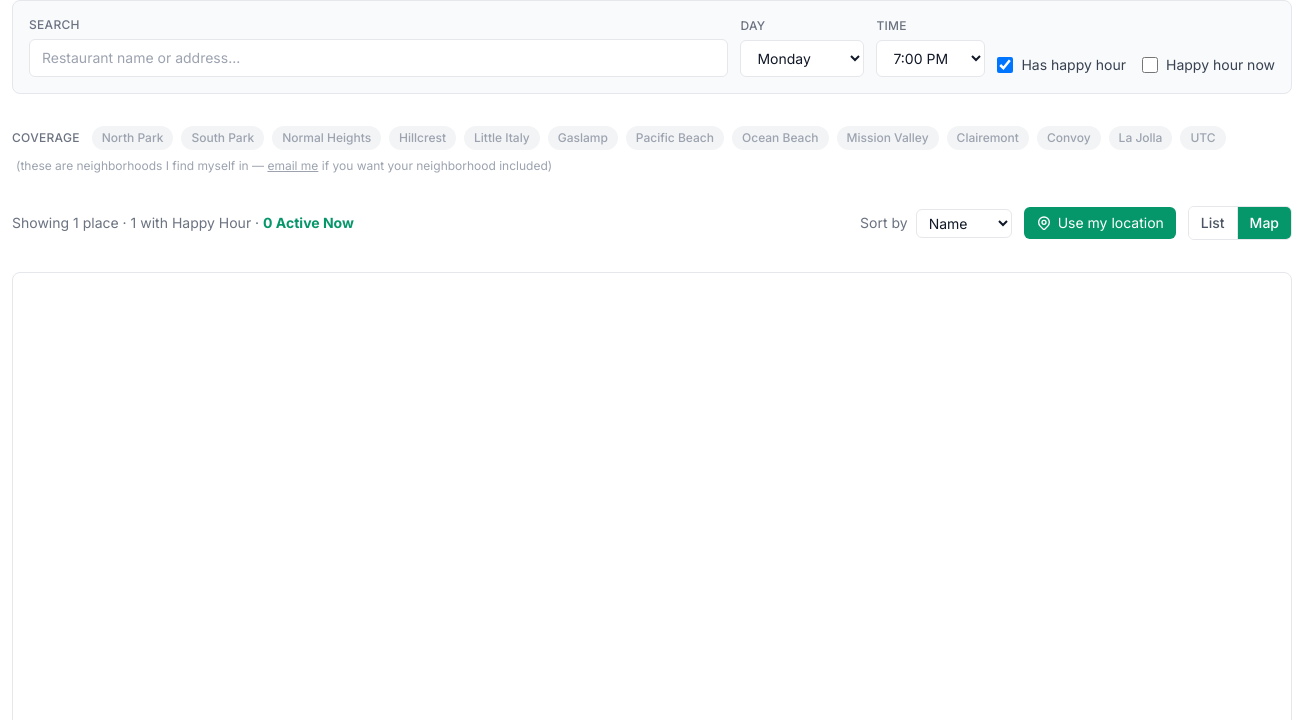
Test case: HappyHourFinder - Restaurant Display › displays happy hour schedule when available
Step 1. Click the button "List" → (1213,223), box [1189,207,1237,239]
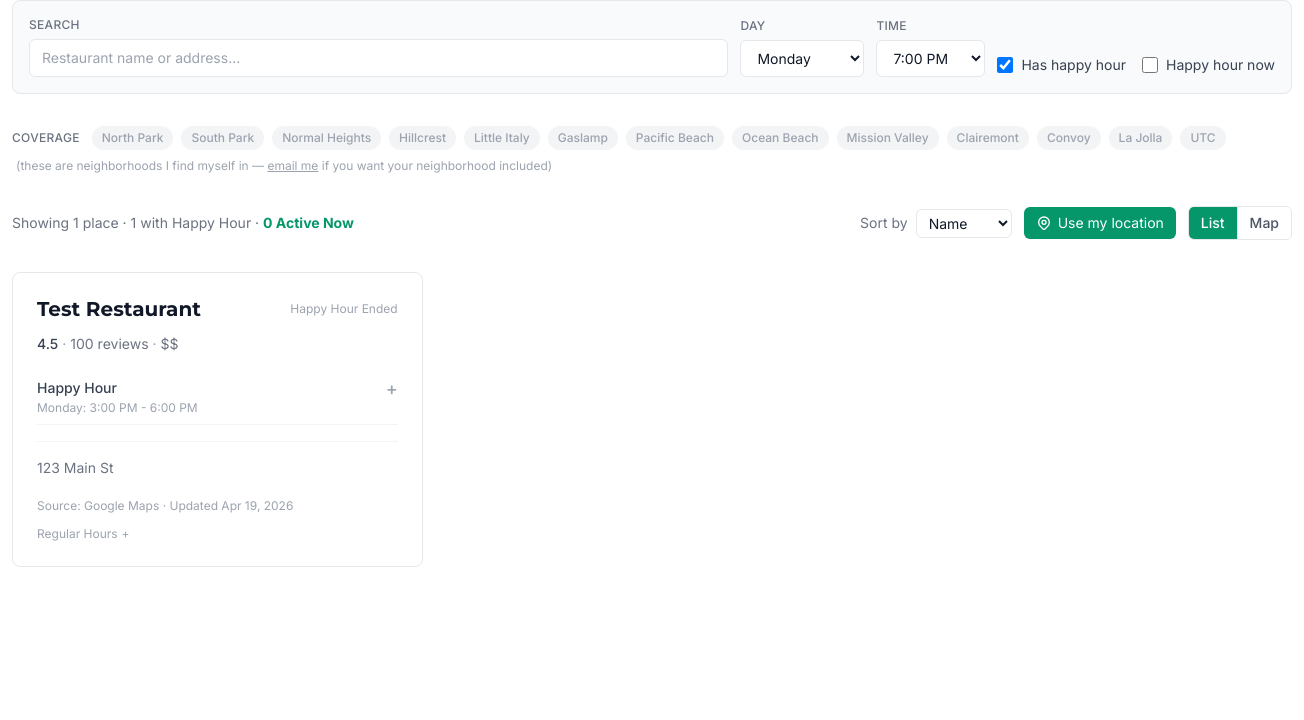
Check: the text "Monday" is shown, box [37,400,198,415]
